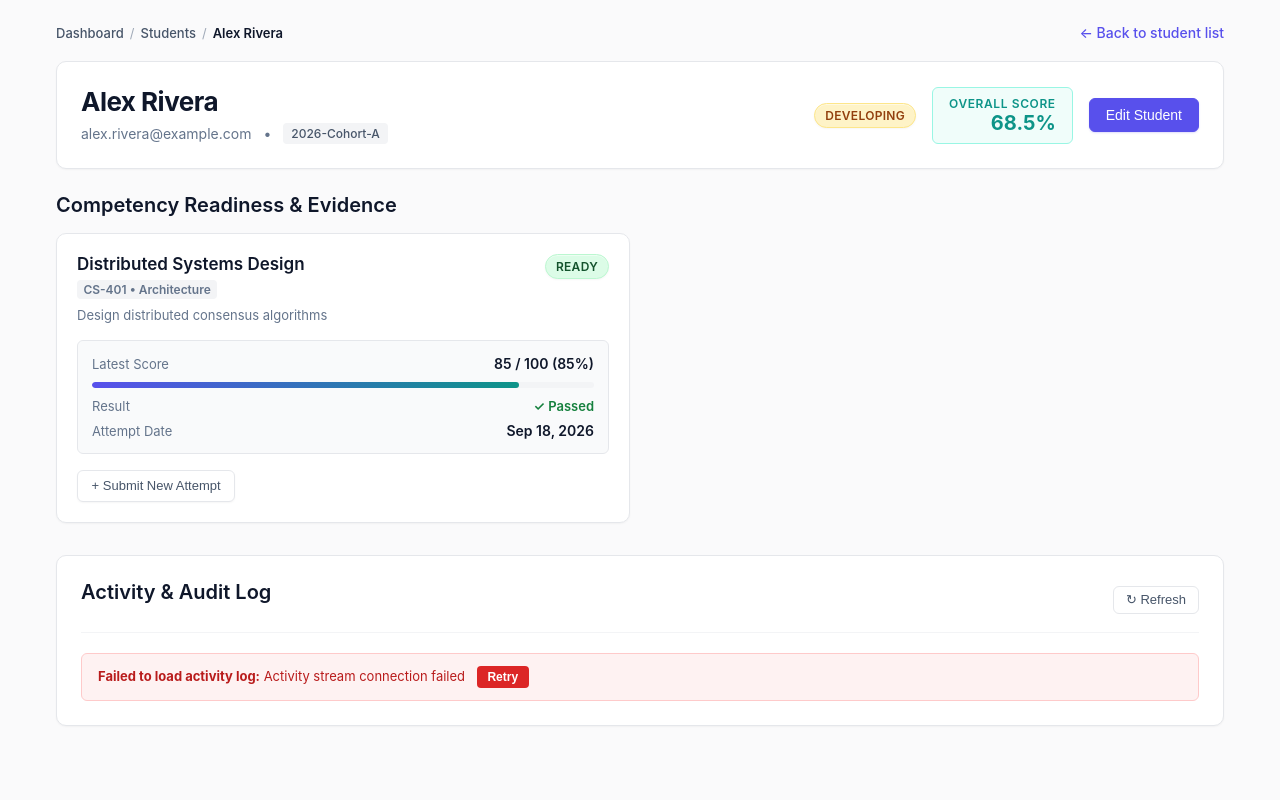
Test: Activity Log Integration Tests › ERROR & RETRY STATE: renders error alert and allows manual retry
Expected: the text "Failed to load activity log:" is shown, [98, 668, 260, 684]
# Click Retry
Click the button "Retry" at (503, 677), box [477, 666, 529, 688]
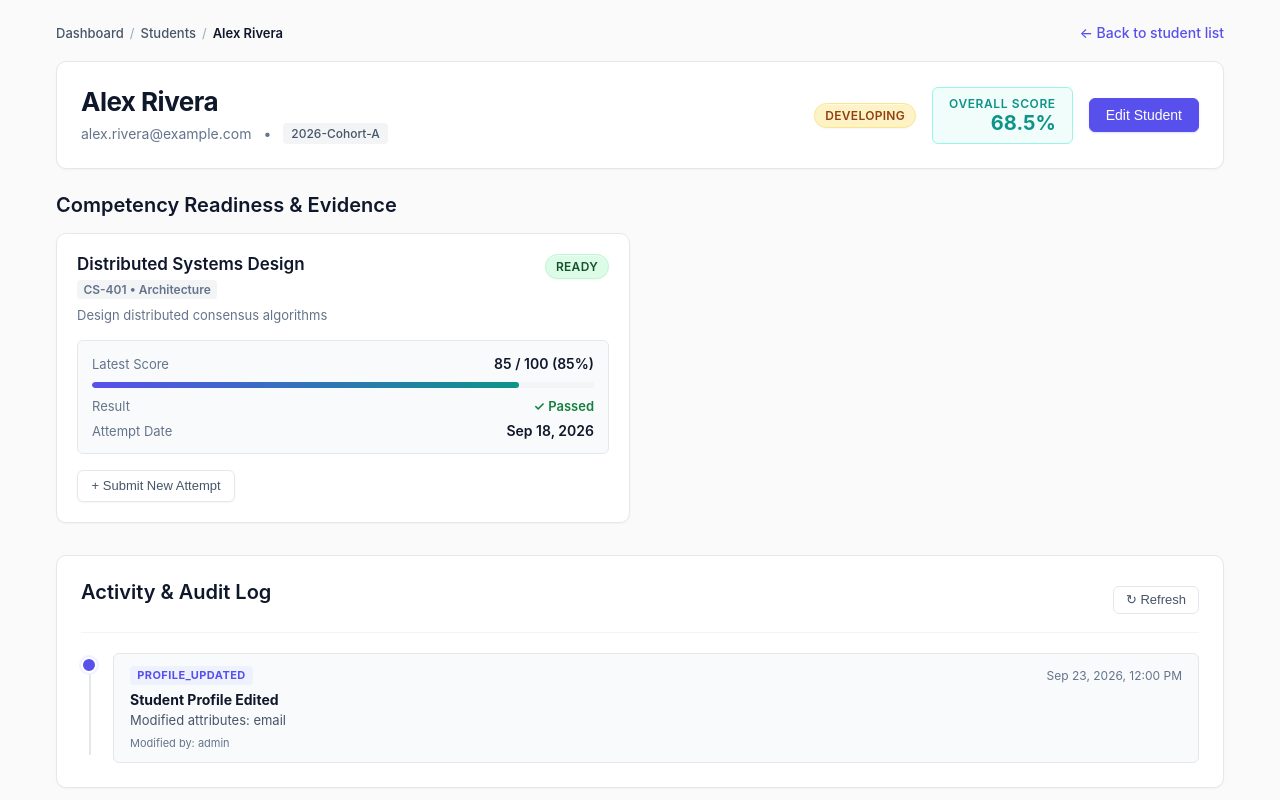
Now the text "Modified attributes: email" is shown, box [130, 712, 286, 728]
